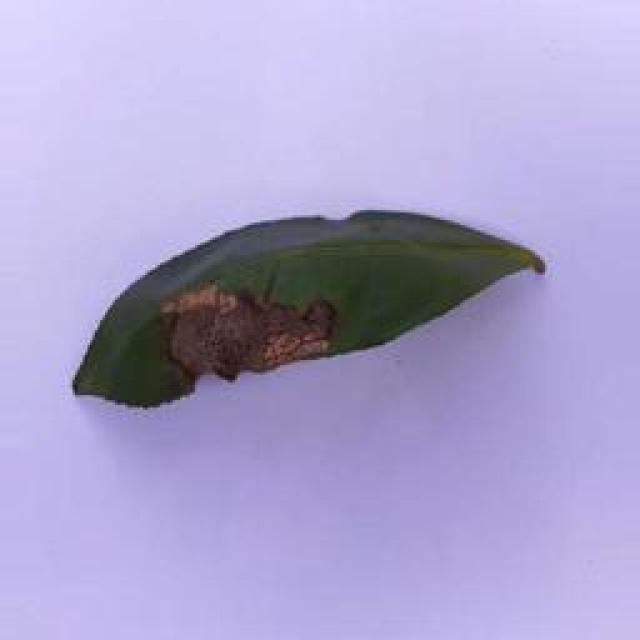Gray Blight: (74, 205, 545, 418)
